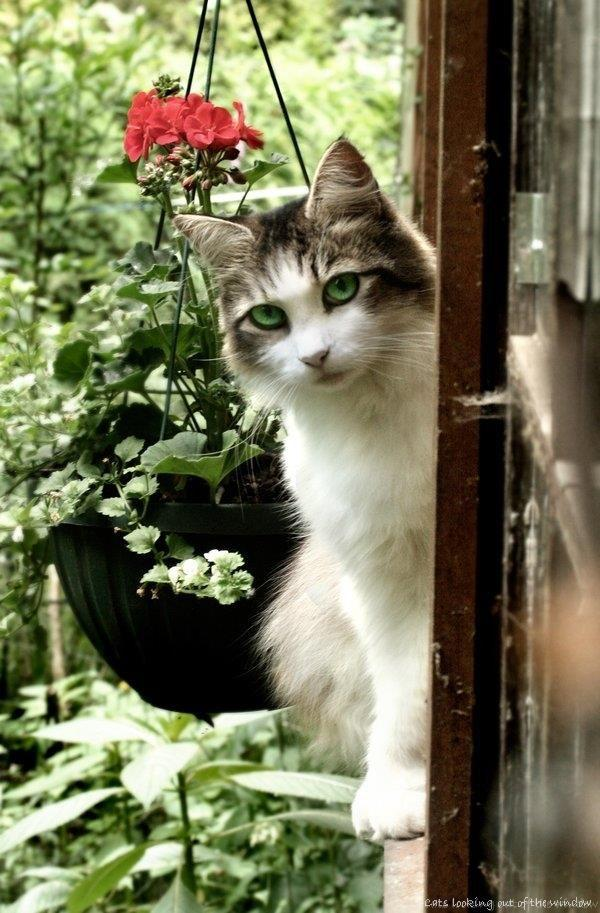kedo: (177, 137, 493, 841)
